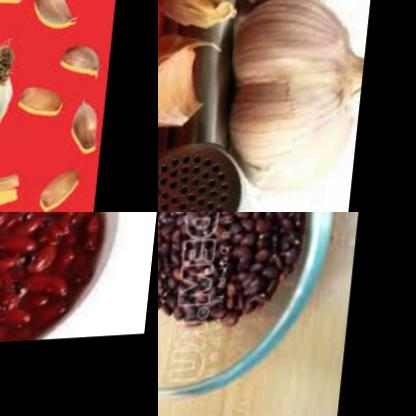fasol: (158, 212, 319, 346), (0, 212, 125, 356)
garlic: (226, 0, 374, 202), (158, 29, 222, 137), (158, 0, 246, 37), (0, 33, 29, 142), (16, 83, 74, 126), (70, 102, 109, 162), (57, 44, 109, 88), (27, 0, 82, 41), (40, 171, 91, 212)
